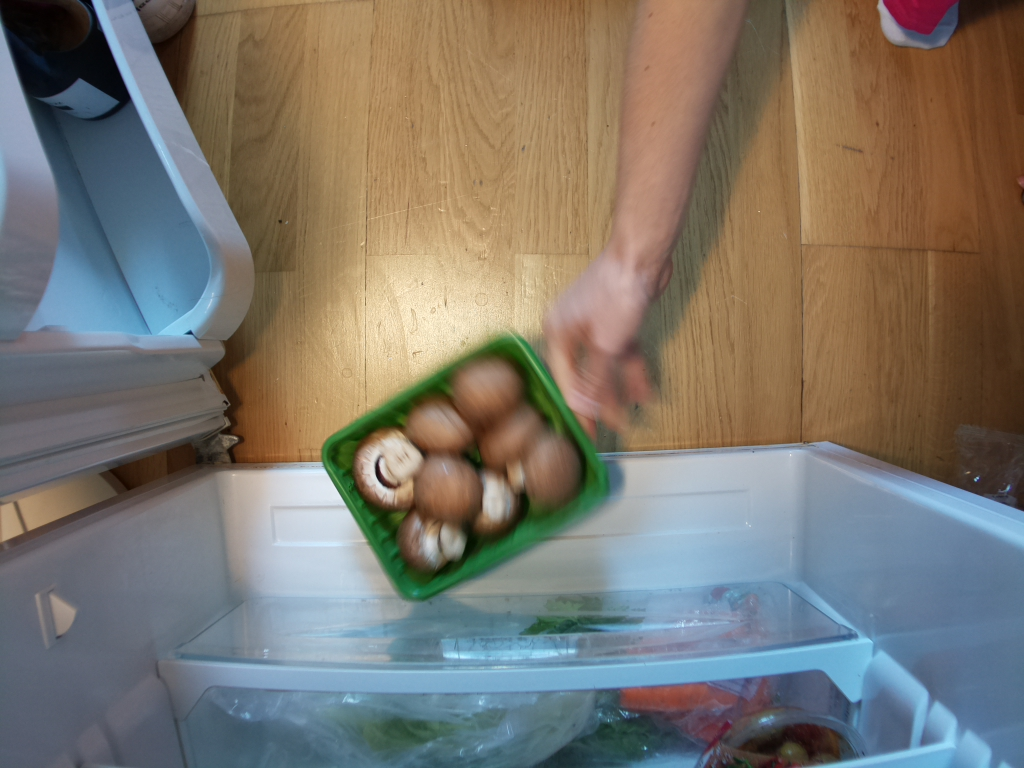mushrooms: (318, 316, 618, 614)
